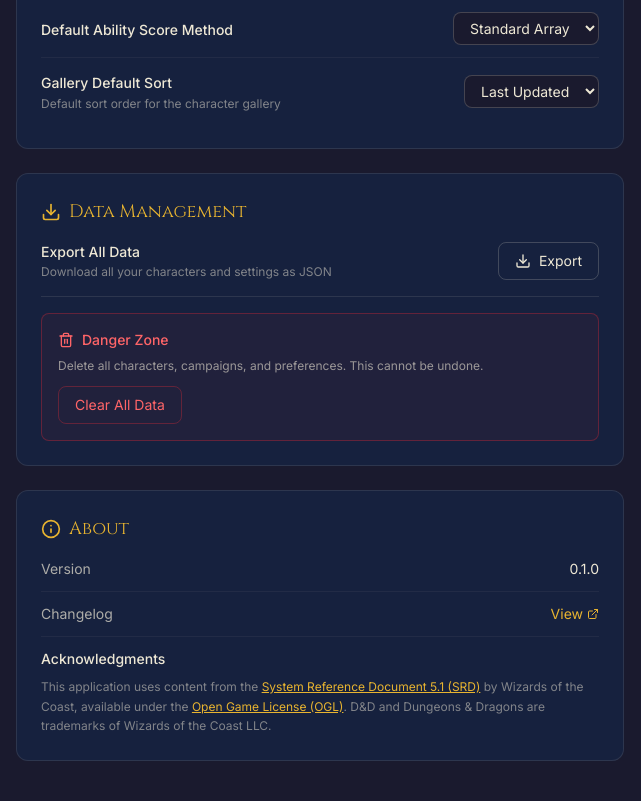
SettingsPage › Clear All Data confirmation flow › should enable confirm button when "DELETE" is typed correctly
(page scrolled)
Click the button with test id "clear-data-btn": (120, 405) [58,386,182,424]
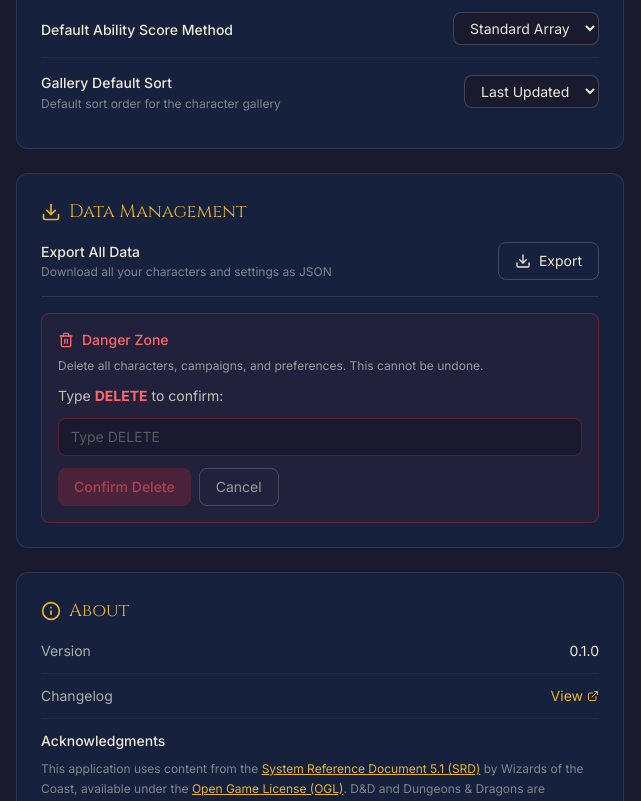
In the field with test id "clear-confirmation-input": (320, 437) [58,418,582,456], type "DELETE"
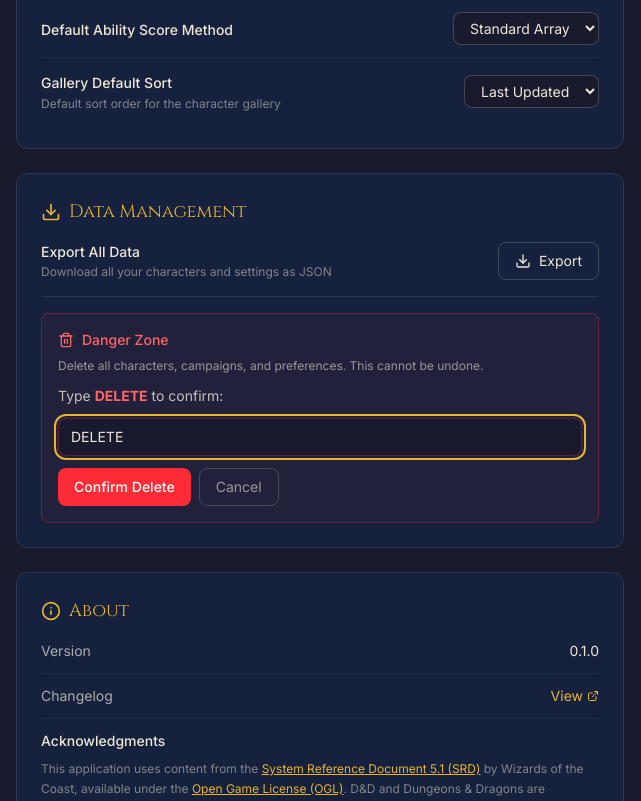
Expected: the button with test id "confirm-clear-btn" is enabled, [58,468,191,506]
